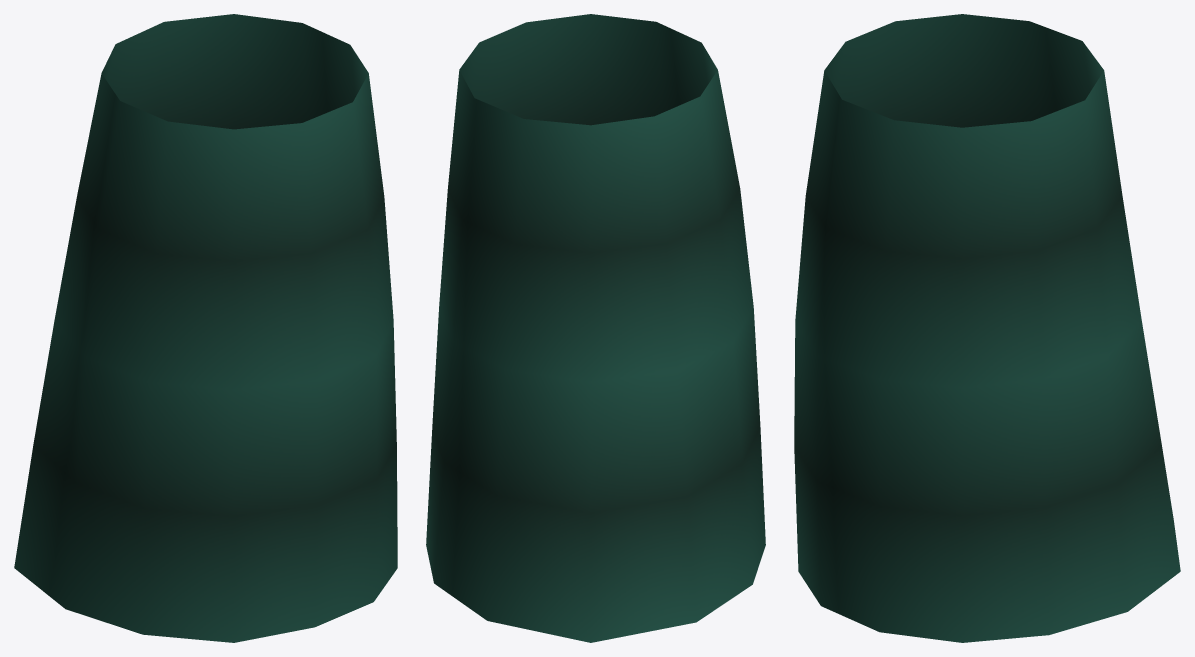
File: vortex_armor_cuisse.R.glb
3 renders of one model, left to right at view 1: azimuth 30°, elevation 25°; view 2: azimuth 150°, elevation 25°; view 3: azimuth 270°, elevation 25°, orthographic. The views are drawn at different scales.
Parts seen in each view (by area): view 1: vortex_armor_cuisse.R; view 2: vortex_armor_cuisse.R; view 3: vortex_armor_cuisse.R.
Part boxes in pixels (x1,y1,x2,y2): vortex_armor_cuisse.R: (14, 14, 397, 642); vortex_armor_cuisse.R: (426, 14, 765, 642); vortex_armor_cuisse.R: (794, 14, 1180, 642).
Bounding box in the file's own units: 0.2449 × 0.37 × 0.2586.
